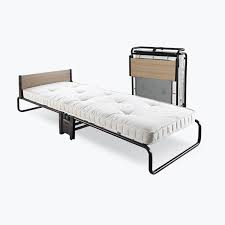bed-matress: (17, 78, 195, 148)
